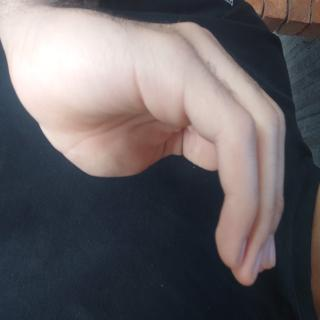HAA: (0, 35, 218, 320)
